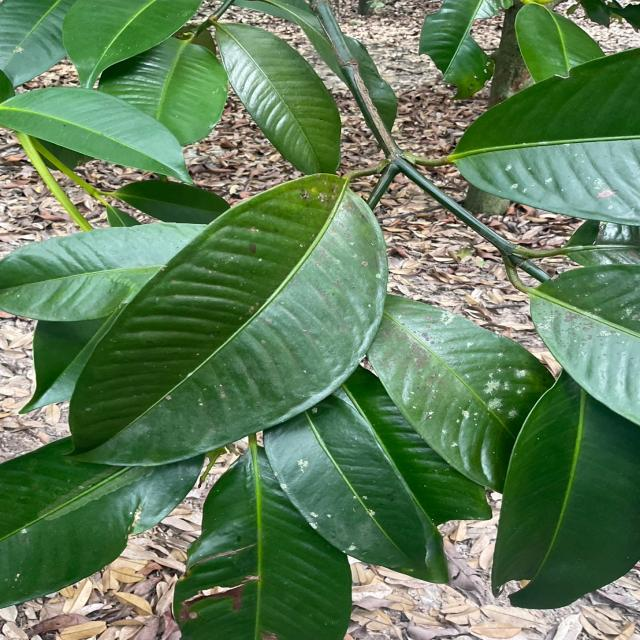Leaf Spot: (398, 308, 569, 456), (273, 447, 406, 568), (495, 143, 640, 221)
